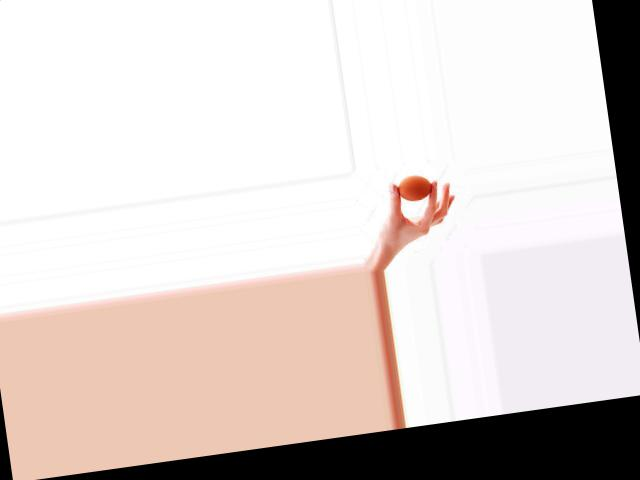egg: (396, 173, 433, 202)
